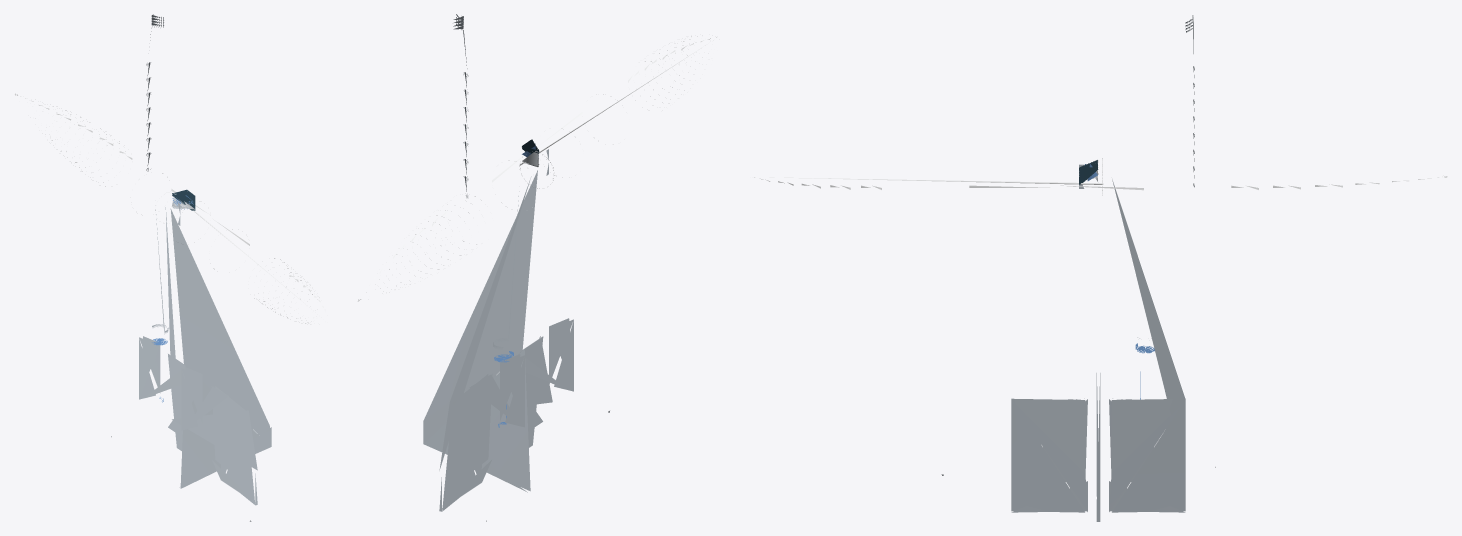
Rendered from crj-ANA-v4.gltf.
3 renders of one model, left to right at view 1: azimuth 30°, elevation 25°; view 2: azimuth 150°, elevation 25°; view 3: azimuth 270°, elevation 25°, orthographic. The views are drawn at different scales.
Parts seen in each view (by area): view 1: object 1; view 2: object 1; view 3: object 1.
Part boxes in pixels (bbox=[...]): object 1: bbox=[15, 93, 325, 505]; object 1: bbox=[357, 36, 716, 511]; object 1: bbox=[754, 158, 1447, 521].
Size of the model in its own units: 7.92 by 27.78 by 36.
